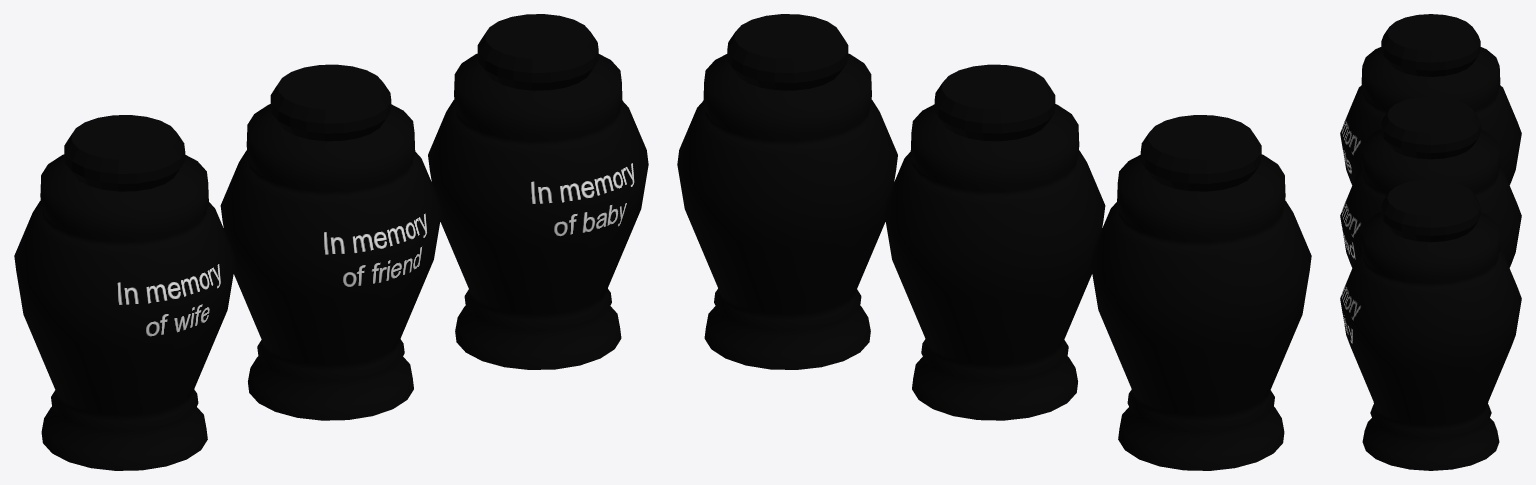
Rendered from urn.fbx.
The picture shows the model from 3 angles, left to right: view 1: azimuth 30°, elevation 25°; view 2: azimuth 150°, elevation 25°; view 3: azimuth 270°, elevation 25°; orthographic projection. The views are drawn at different scales.
Parts seen in each view (by area): view 1: Wife, Baby, friend; view 2: Wife, Baby, friend; view 3: Baby, friend, Wife.
Boxes of the visible parts, left/top/right/bottom form: Wife: left=14, top=115, right=234, bottom=470; Baby: left=428, top=14, right=648, bottom=369; friend: left=220, top=64, right=441, bottom=420; Wife: left=1091, top=115, right=1311, bottom=470; Baby: left=677, top=14, right=897, bottom=369; friend: left=884, top=64, right=1105, bottom=420; Baby: left=1340, top=179, right=1521, bottom=470; friend: left=1340, top=96, right=1521, bottom=267; Wife: left=1340, top=14, right=1521, bottom=185.
Size of the model in its own units: 22.47 by 10.58 by 7.13.
3 materials, 3 textured.
